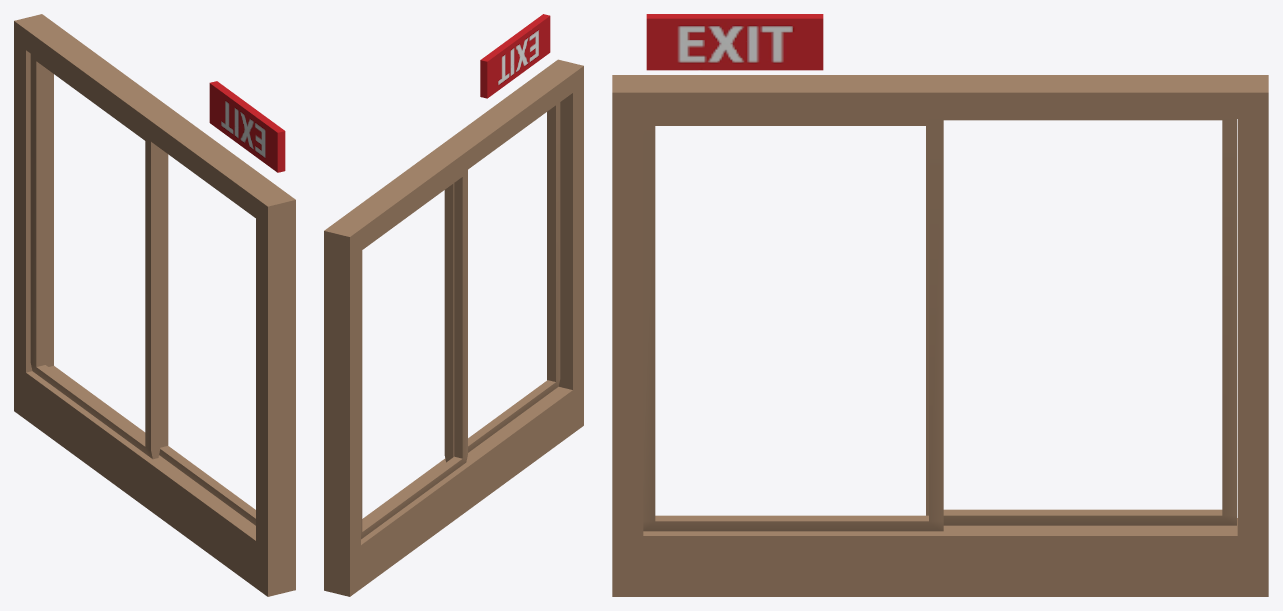
The model's file is group_exit.fbx.
3 views of the same model, side by side, from view 1: azimuth 30°, elevation 25°; view 2: azimuth 150°, elevation 25°; view 3: azimuth 270°, elevation 25° (orthographic). The views are drawn at different scales.
Visible parts, largest first — view 1: obj_exitdoor_frame, obj_exitdoor_1, obj_exitdoor_2, obj_exitsign; view 2: obj_exitdoor_frame, obj_exitdoor_2, obj_exitdoor_1, obj_exitsign; view 3: obj_exitdoor_frame, obj_exitdoor_2, obj_exitdoor_1, obj_exitsign.
Part boxes in pixels (left/top/right/bottom): obj_exitdoor_frame: left=14, top=14, right=295, bottom=596; obj_exitdoor_1: left=30, top=54, right=160, bottom=459; obj_exitdoor_2: left=159, top=149, right=255, bottom=525; obj_exitsign: left=209, top=81, right=285, bottom=172; obj_exitdoor_frame: left=324, top=59, right=583, bottom=596; obj_exitdoor_2: left=444, top=102, right=560, bottom=462; obj_exitdoor_1: left=361, top=170, right=467, bottom=539; obj_exitsign: left=480, top=14, right=550, bottom=98; obj_exitdoor_frame: left=612, top=75, right=1268, bottom=596; obj_exitdoor_2: left=643, top=119, right=943, bottom=531; obj_exitdoor_1: left=926, top=119, right=1236, bottom=525; obj_exitsign: left=646, top=14, right=823, bottom=70.
Size of the model in its own units: 0.1465 by 2.04 by 2.09.
Materials: 1 (1 with a texture image).
